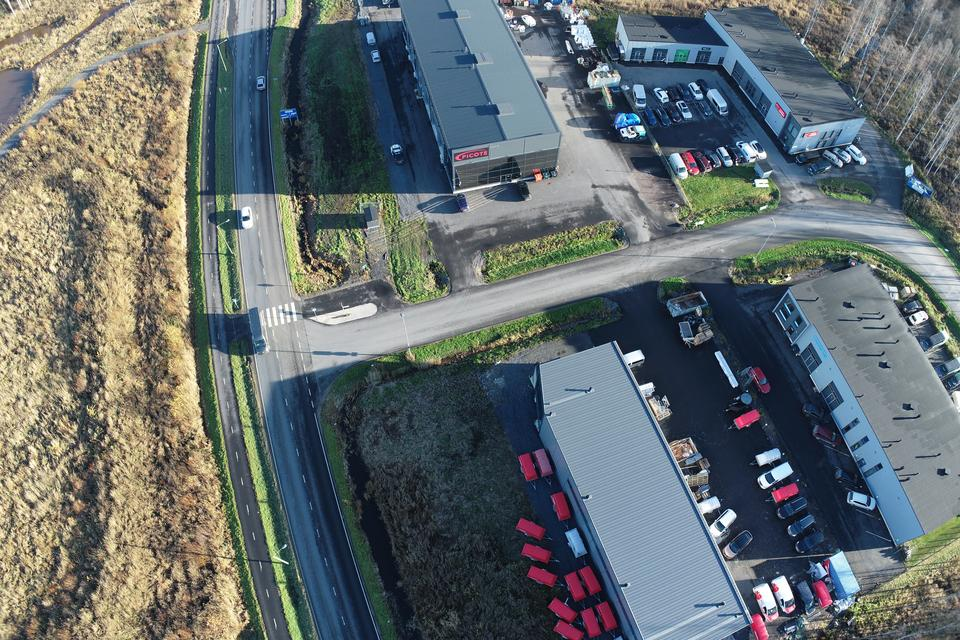intersection: (180, 272, 427, 416)
